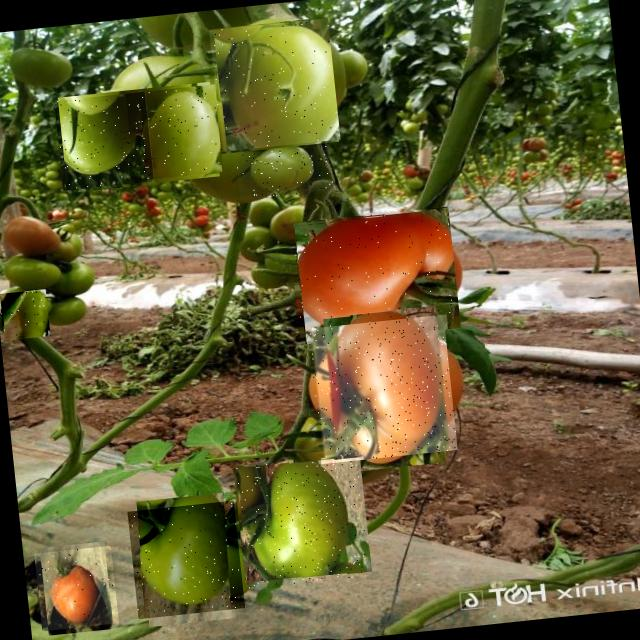Ripe Tomato: (288, 206, 460, 344), (308, 314, 457, 464), (34, 545, 118, 631)
Unripe Tomato: (206, 17, 340, 152), (236, 454, 369, 588), (127, 500, 245, 619), (54, 91, 152, 190), (125, 84, 222, 180), (235, 144, 334, 200), (0, 288, 50, 339)
